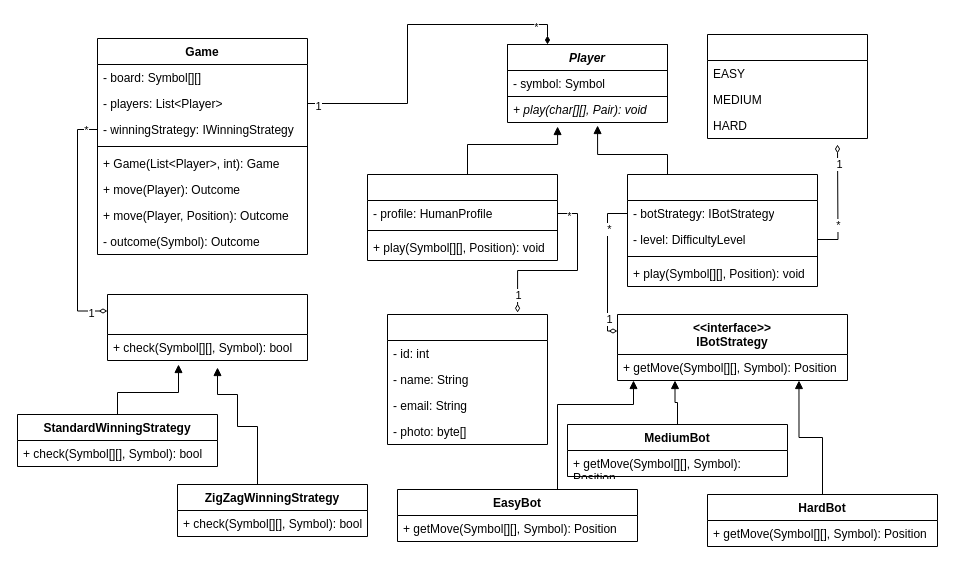
Image size: 955x567. Some labels were removed from this diagram. The shapes that lost their labels are listed below. From the top down, each one's box as (x1, y1, x2, y2) in pixels, then its label:
(706, 34, 868, 138): DifficultyLevel
(366, 174, 558, 260): HumanPlayer
(626, 174, 818, 286): BotPlayer
(106, 294, 308, 360): <<interface>> IWinningStrategy
(386, 314, 548, 444): HumanProfile
